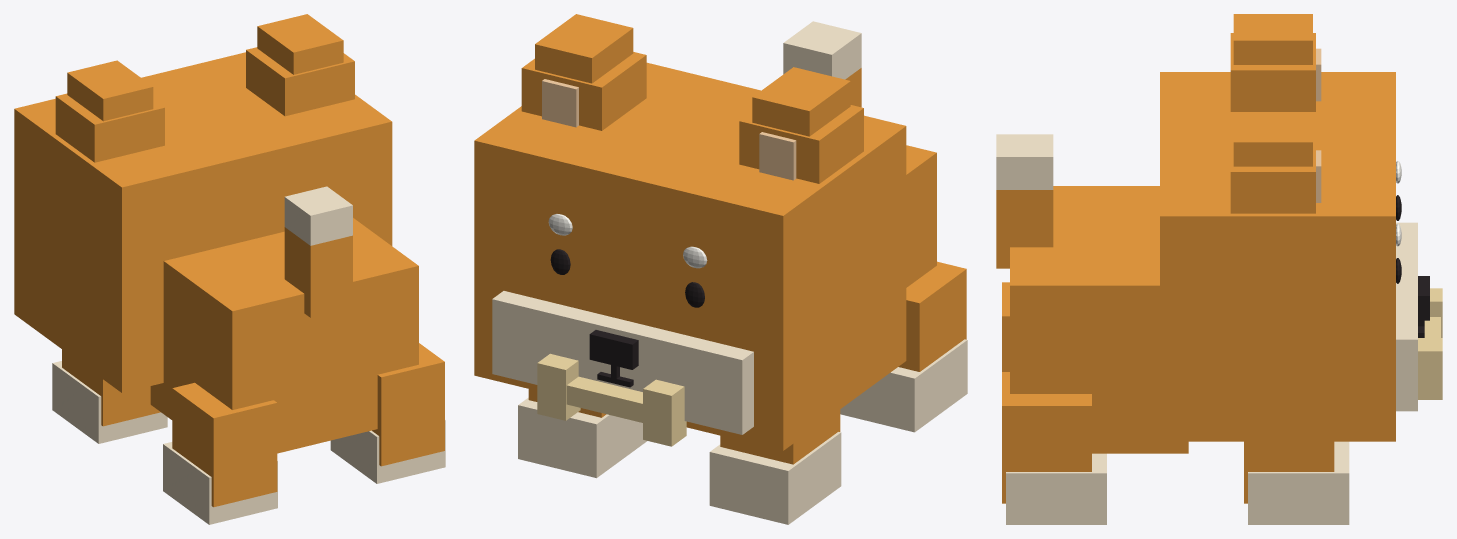
File: Shiba_Block.obj
The picture shows the model from 3 angles, left to right: view 1: azimuth 30°, elevation 25°; view 2: azimuth 150°, elevation 25°; view 3: azimuth 270°, elevation 25°; orthographic projection. The views are drawn at different scales.
Visible parts, largest first — view 1: BigHead, ShortTorso, LegBL_Leg, LegBR_Leg, EarL_Base, EarR_Base, TailRoot, EarR_BluntTop, EarL_BluntTop, LegBL_Paw, LegFL_Paw, TailCreamTip (+2 smaller); view 2: BigHead, CreamMuzzle, LegFL_Paw, LegFR_Paw, LegBL_Paw, LegBL_Leg, EarL_BluntTop, EarR_BluntTop, EarL_Base, EarR_Base, ShortTorso, TailCreamTip (+7 smaller); view 3: BigHead, ShortTorso, LegBR_Leg, LegFR_Paw, LegBR_Paw, EarR_Base, EarL_Base, EarR_BluntTop, EarL_BluntTop, CreamMuzzle, TailRoot, TailCreamTip (+4 smaller).
Part boxes in pixels (x1=…): BigHead: x1=14, y1=52, x2=392, y2=392; ShortTorso: x1=150, y1=218, x2=418, y2=453; LegBL_Leg: x1=172, y1=382, x2=277, y2=507; LegBR_Leg: x1=372, y1=343, x2=444, y2=466; EarL_Base: x1=55, y1=93, x2=164, y2=162; EarR_Base: x1=246, y1=47, x2=354, y2=116; TailRoot: x1=284, y1=227, x2=352, y2=317; EarR_BluntTop: x1=257, y1=14, x2=343, y2=74; EarL_BluntTop: x1=67, y1=60, x2=153, y2=121; LegBL_Paw: x1=163, y1=442, x2=277, y2=524; LegFL_Paw: x1=52, y1=361, x2=167, y2=443; TailCreamTip: x1=284, y1=186, x2=352, y2=245; BigHead: x1=474, y1=62, x2=906, y2=450; CreamMuzzle: x1=492, y1=291, x2=753, y2=434; LegFL_Paw: x1=709, y1=432, x2=841, y2=524; LegFR_Paw: x1=518, y1=397, x2=646, y2=478; LegBL_Paw: x1=840, y1=339, x2=967, y2=432; LegBL_Leg: x1=898, y1=261, x2=966, y2=371; EarL_BluntTop: x1=752, y1=67, x2=850, y2=136; EarR_BluntTop: x1=535, y1=14, x2=633, y2=83; EarL_Base: x1=739, y1=105, x2=863, y2=183; EarR_Base: x1=521, y1=52, x2=646, y2=130; ShortTorso: x1=906, y1=145, x2=936, y2=287; TailCreamTip: x1=783, y1=21, x2=861, y2=79; BigHead: x1=1160, y1=72, x2=1395, y2=441; ShortTorso: x1=1010, y1=186, x2=1188, y2=453; LegBR_Leg: x1=1002, y1=372, x2=1091, y2=503; LegFR_Paw: x1=1248, y1=441, x2=1349, y2=524; LegBR_Paw: x1=1006, y1=453, x2=1106, y2=524; EarR_Base: x1=1230, y1=134, x2=1315, y2=213; EarL_Base: x1=1230, y1=33, x2=1315, y2=111; EarR_BluntTop: x1=1233, y1=115, x2=1312, y2=166; EarL_BluntTop: x1=1233, y1=14, x2=1312, y2=64; CreamMuzzle: x1=1396, y1=222, x2=1417, y2=411; TailRoot: x1=996, y1=190, x2=1053, y2=268; TailCreamTip: x1=996, y1=134, x2=1053, y2=189.
Size of the model in its own units: 2.16 by 2.67 by 2.82.
